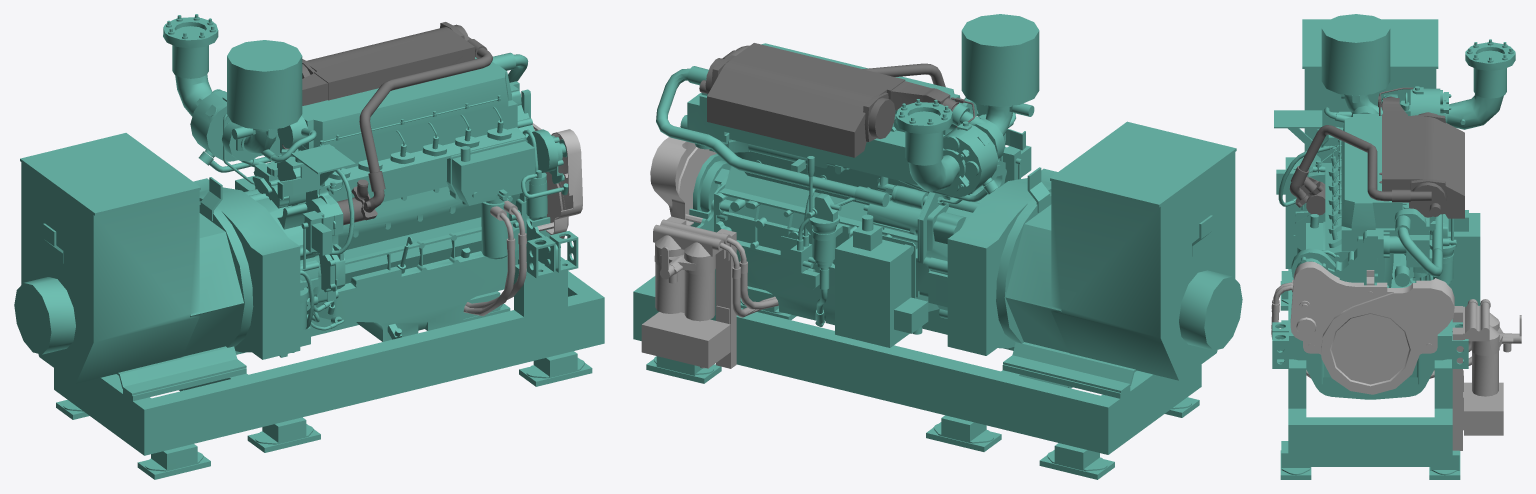
File: VolvoPentaGS.fbx
3 renders of one model, left to right at view 1: azimuth 30°, elevation 25°; view 2: azimuth 150°, elevation 25°; view 3: azimuth 270°, elevation 25°, orthographic. The views are drawn at different scales.
Parts seen in each view (by area): view 1: 3D Solid, 3D Solid.033, 3D Solid.016, 3D Solid.019, 3D Solid.020, 3D Solid.034, 3D Solid.017, 3D Solid.028, 3D Solid.008, 3D Solid.007, 3D Solid.006, 3D Solid.018; view 2: 3D Solid.033, 3D Solid, 3D Solid.016, 3D Solid.019, 3D Solid.017, 3D Solid.024, 3D Solid.020, 3D Solid.034, 3D Solid.032, 3D Solid.009, 3D Solid.010, 3D Solid.025 (+3 smaller); view 3: 3D Solid, 3D Solid.034, 3D Solid.019, 3D Solid.016, 3D Solid.033, 3D Solid.017, 3D Solid.020, 3D Solid.024, 3D Solid.028, 3D Solid.006, 3D Solid.005, 3D Solid.008.
Boxes of the visible parts, left/top/right/bottom form: 3D Solid: left=163, top=14, right=578, bottom=341; 3D Solid.033: left=14, top=133, right=300, bottom=395; 3D Solid.016: left=54, top=257, right=604, bottom=455; 3D Solid.019: left=282, top=22, right=492, bottom=225; 3D Solid.020: left=492, top=52, right=567, bottom=183; 3D Solid.034: left=532, top=123, right=582, bottom=238; 3D Solid.017: left=463, top=200, right=526, bottom=316; 3D Solid.028: left=301, top=169, right=354, bottom=268; 3D Solid.008: left=137, top=444, right=210, bottom=479; 3D Solid.007: left=247, top=417, right=320, bottom=452; 3D Solid.006: left=519, top=351, right=592, bottom=386; 3D Solid.018: left=279, top=270, right=344, bottom=357; 3D Solid.033: left=947, top=121, right=1242, bottom=392; 3D Solid: left=689, top=14, right=1039, bottom=326; 3D Solid.016: left=633, top=269, right=1201, bottom=454; 3D Solid.019: left=699, top=43, right=975, bottom=157; 3D Solid.017: left=641, top=216, right=778, bottom=368; 3D Solid.024: left=835, top=214, right=928, bottom=347; 3D Solid.020: left=656, top=66, right=889, bottom=207; 3D Solid.034: left=650, top=137, right=716, bottom=225; 3D Solid.032: left=863, top=176, right=928, bottom=235; 3D Solid.009: left=1039, top=443, right=1114, bottom=479; 3D Solid.010: left=926, top=415, right=1001, bottom=451; 3D Solid.025: left=780, top=235, right=819, bottom=289; 3D Solid: left=1272, top=14, right=1515, bottom=399; 3D Solid.034: left=1290, top=261, right=1454, bottom=394; 3D Solid.019: left=1289, top=87, right=1464, bottom=218; 3D Solid.016: left=1288, top=269, right=1452, bottom=466; 3D Solid.033: left=1285, top=19, right=1438, bottom=268; 3D Solid.017: left=1271, top=280, right=1521, bottom=450; 3D Solid.020: left=1291, top=208, right=1442, bottom=287; 3D Solid.024: left=1428, top=210, right=1480, bottom=307; 3D Solid.028: left=1276, top=145, right=1339, bottom=209; 3D Solid.006: left=1280, top=441, right=1311, bottom=479; 3D Solid.005: left=1429, top=450, right=1460, bottom=479; 3D Solid.008: left=1280, top=271, right=1288, bottom=310.
Bounding box in the file's own units: 215 × 139 × 97.49.
